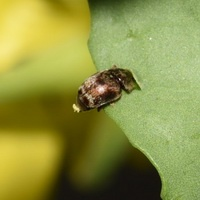insect: (73, 65, 139, 111)
